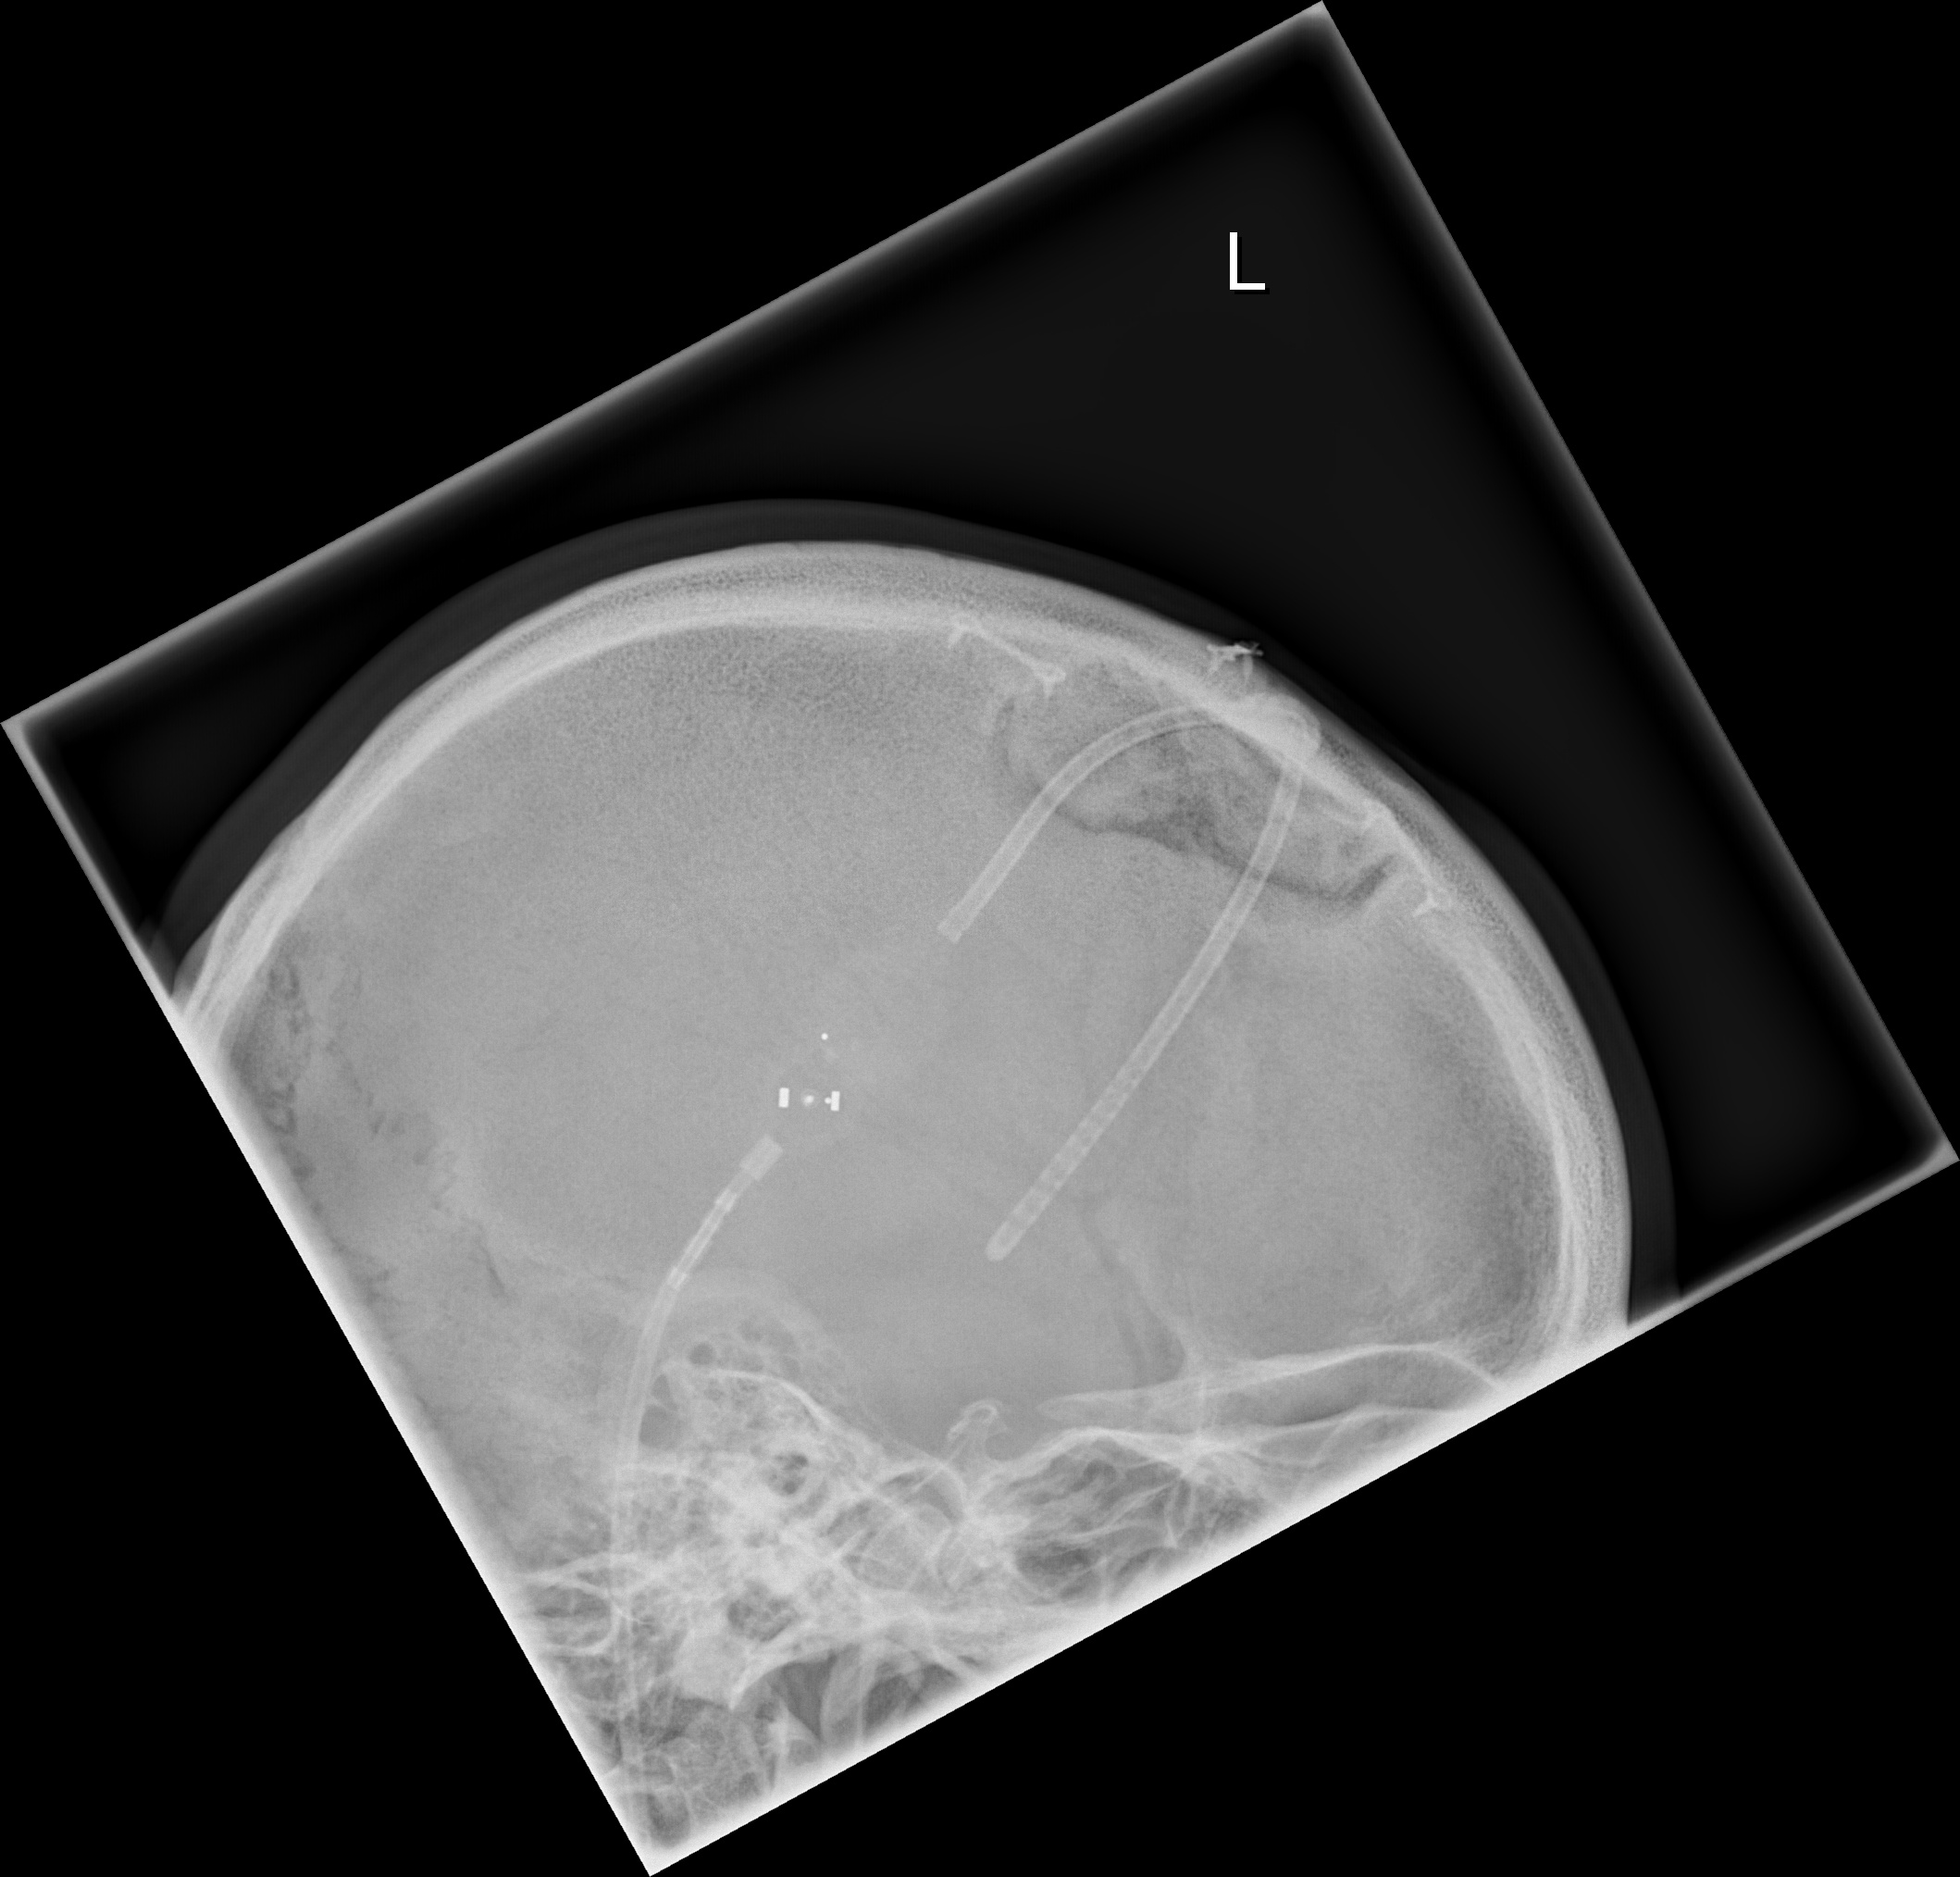Codman Certas: (749, 1023, 871, 1154)
